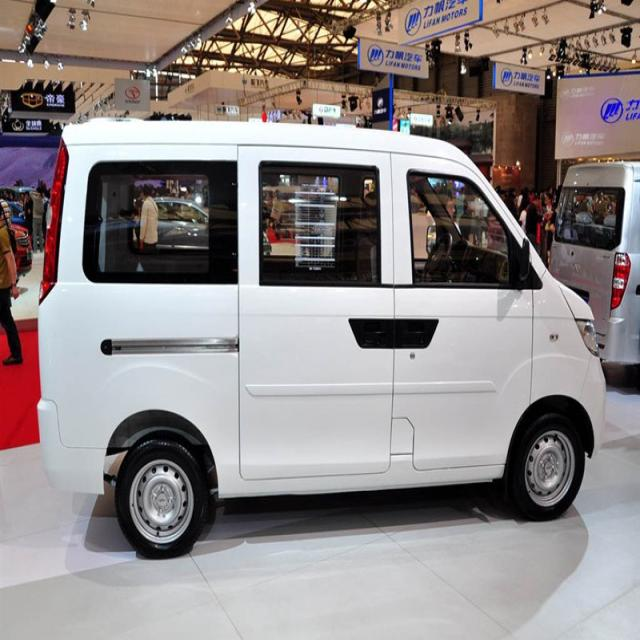back_right_side_light: (38, 132, 70, 307)
door: (236, 158, 391, 486)
front_right_side_door: (388, 146, 538, 474)
front_right_side_light: (574, 316, 602, 357)
front_right_side_mirror: (520, 235, 534, 292)
wheel: (116, 429, 207, 559), (509, 416, 588, 520)
